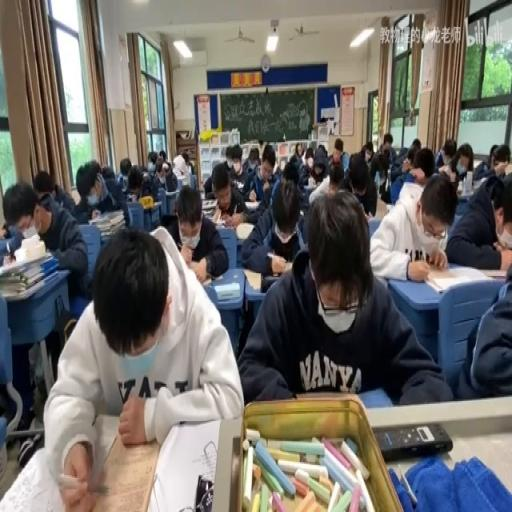calculator: (422, 263, 500, 292), (214, 282, 240, 300), (242, 266, 262, 289), (300, 180, 318, 204), (373, 196, 389, 219), (199, 272, 224, 286), (454, 186, 472, 205), (236, 222, 254, 240), (200, 196, 217, 214), (480, 266, 507, 277), (20, 225, 38, 239), (68, 185, 80, 205), (472, 175, 486, 189), (211, 206, 223, 222), (178, 171, 190, 186), (244, 199, 260, 209), (126, 192, 137, 202), (233, 181, 244, 189)
paper: (47, 219, 242, 511), (238, 189, 444, 410), (4, 176, 90, 302), (445, 169, 512, 272), (168, 182, 229, 282), (70, 158, 124, 226), (337, 150, 377, 218), (203, 145, 245, 201), (135, 161, 171, 226), (245, 142, 280, 204), (392, 138, 421, 181), (32, 171, 58, 203), (434, 138, 456, 171), (368, 154, 386, 194), (2, 223, 24, 255), (328, 160, 344, 190), (330, 135, 346, 165), (126, 171, 142, 195), (473, 159, 490, 179), (282, 161, 298, 182), (179, 150, 192, 174), (163, 169, 176, 192), (454, 155, 467, 178), (360, 141, 374, 162), (146, 151, 158, 175), (118, 158, 132, 178), (381, 134, 393, 154), (304, 145, 314, 168), (257, 138, 267, 161), (488, 142, 498, 164), (101, 164, 115, 179), (248, 146, 258, 164), (315, 142, 326, 156), (294, 141, 303, 158), (173, 162, 182, 175), (158, 149, 166, 161)
person: (374, 422, 451, 461), (194, 474, 214, 509), (261, 274, 283, 293)
